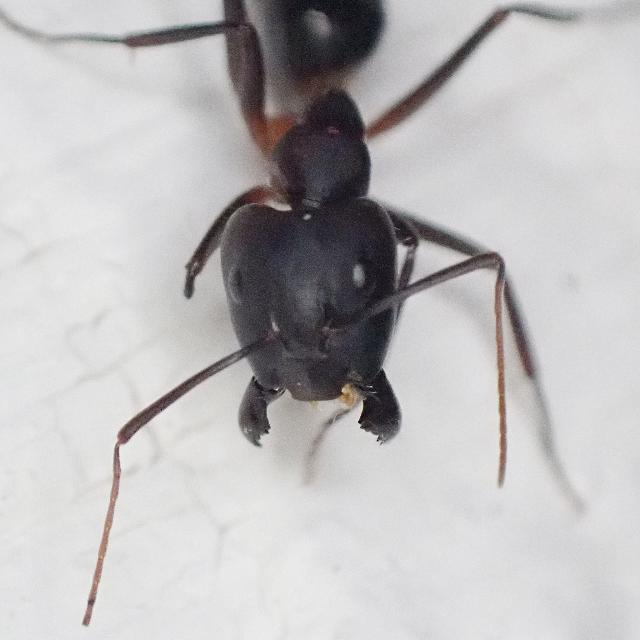Camponotus: (0, 0, 600, 580)
